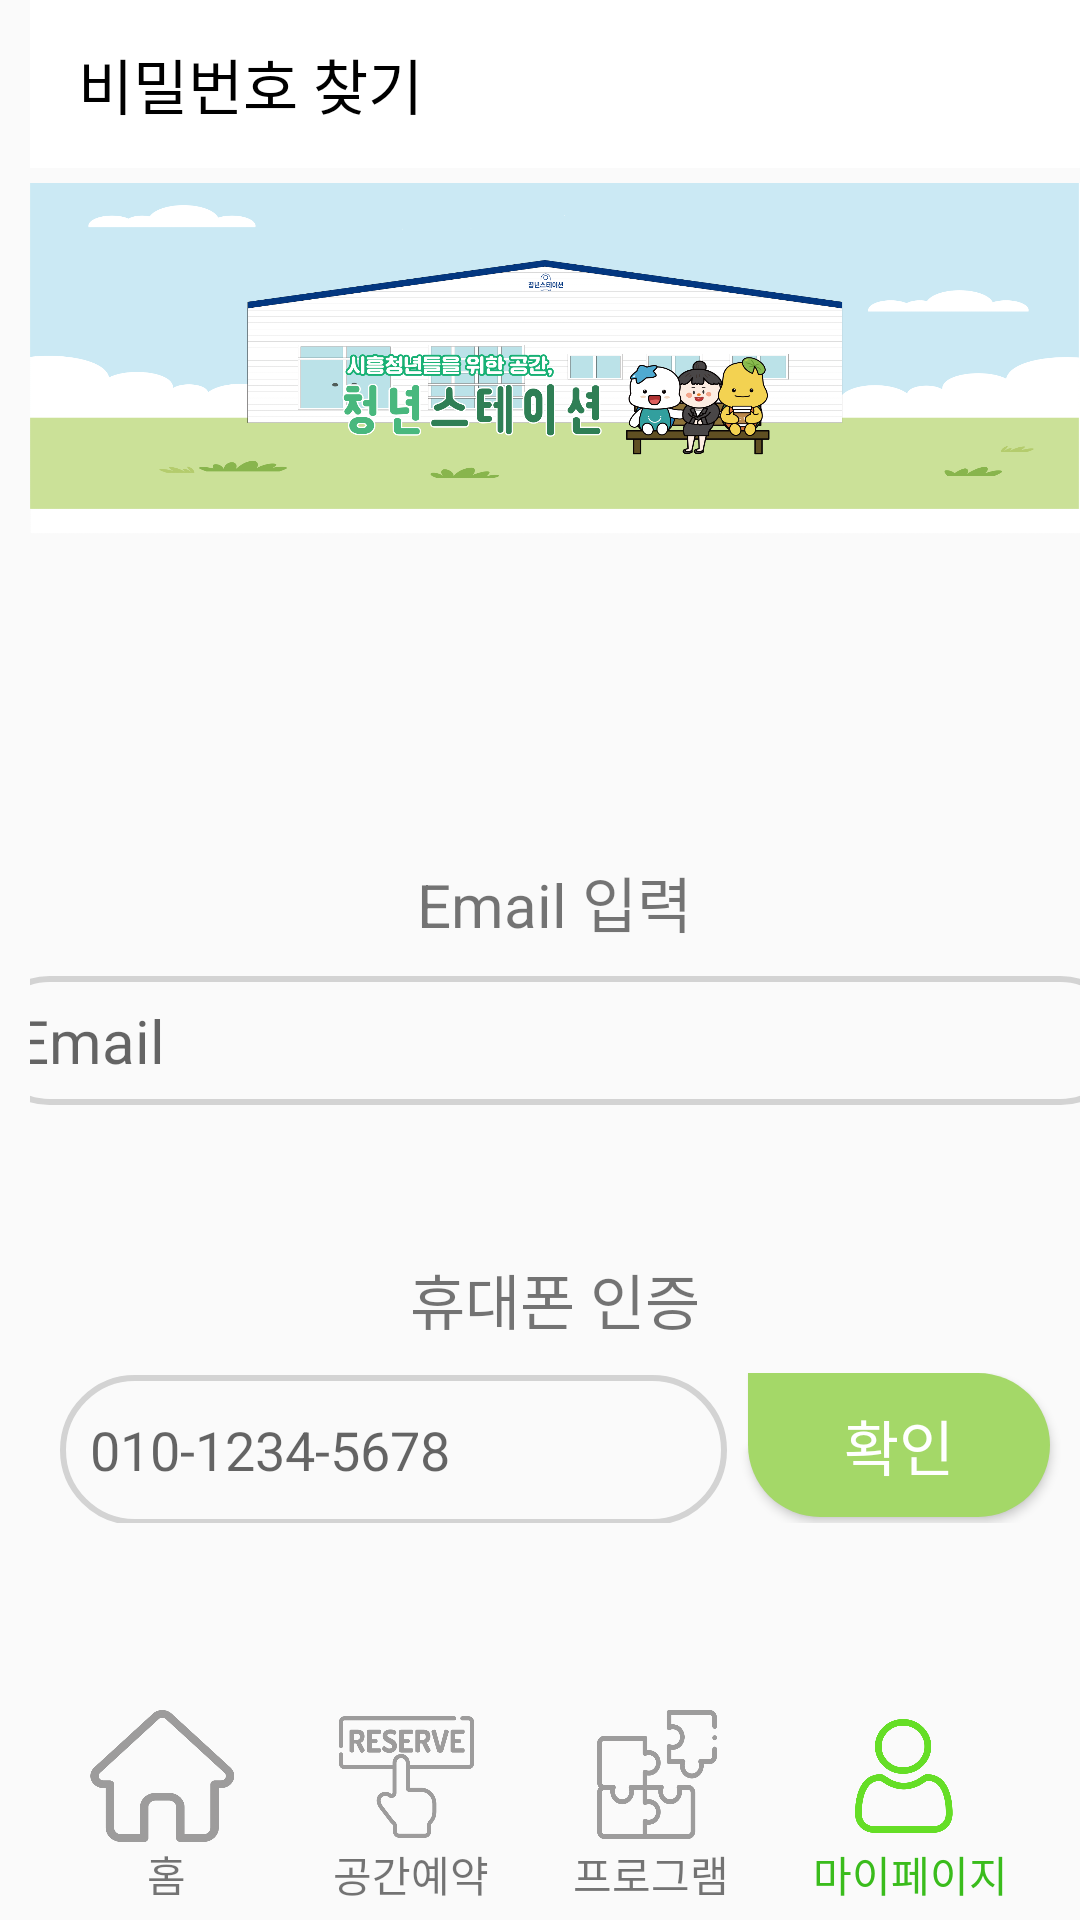

Locate icon controls on the screen. Image size 1080×1920, boxes as bbox=[x1, y1, x2, y2].
puzzle: bbox=[597, 1710, 717, 1839]
